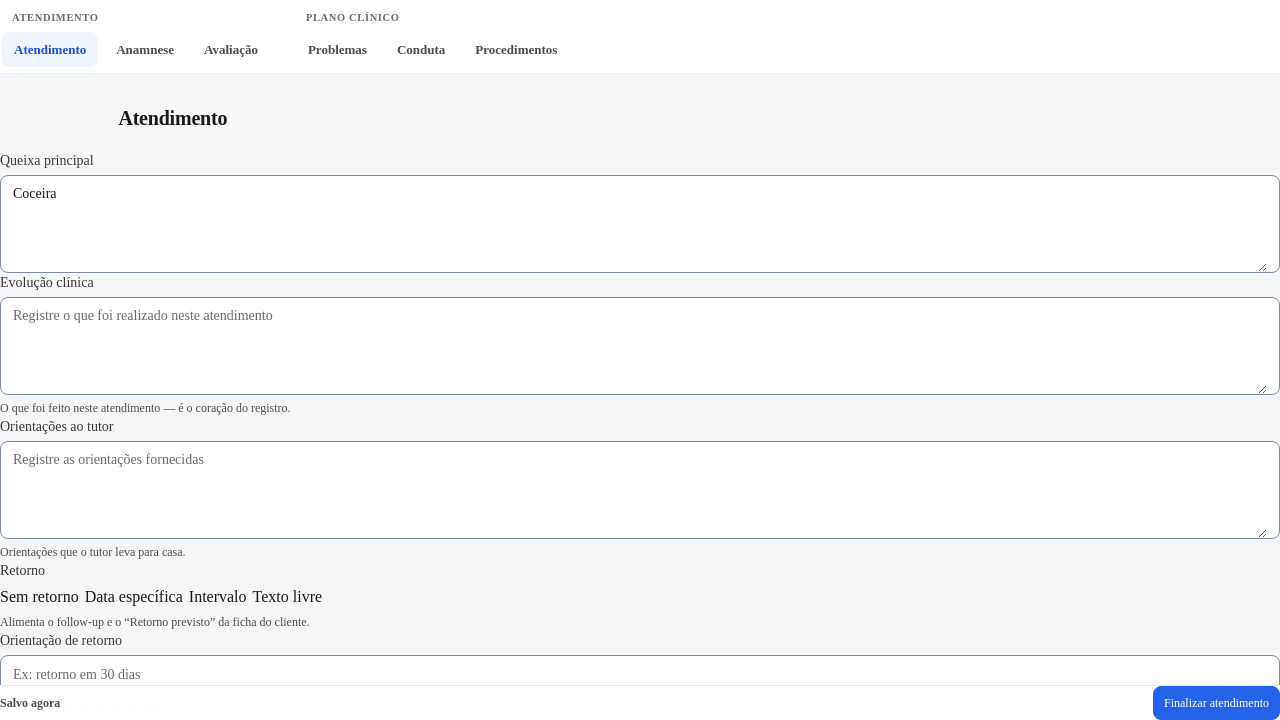
Test case: Revisão de finalização em hierarquia › pendências são os blocos realmente vazios (sem inventar campo)
Click the button "Finalizar atendimento": (1216, 703) x1=1153 y1=686 x2=1279 y2=719
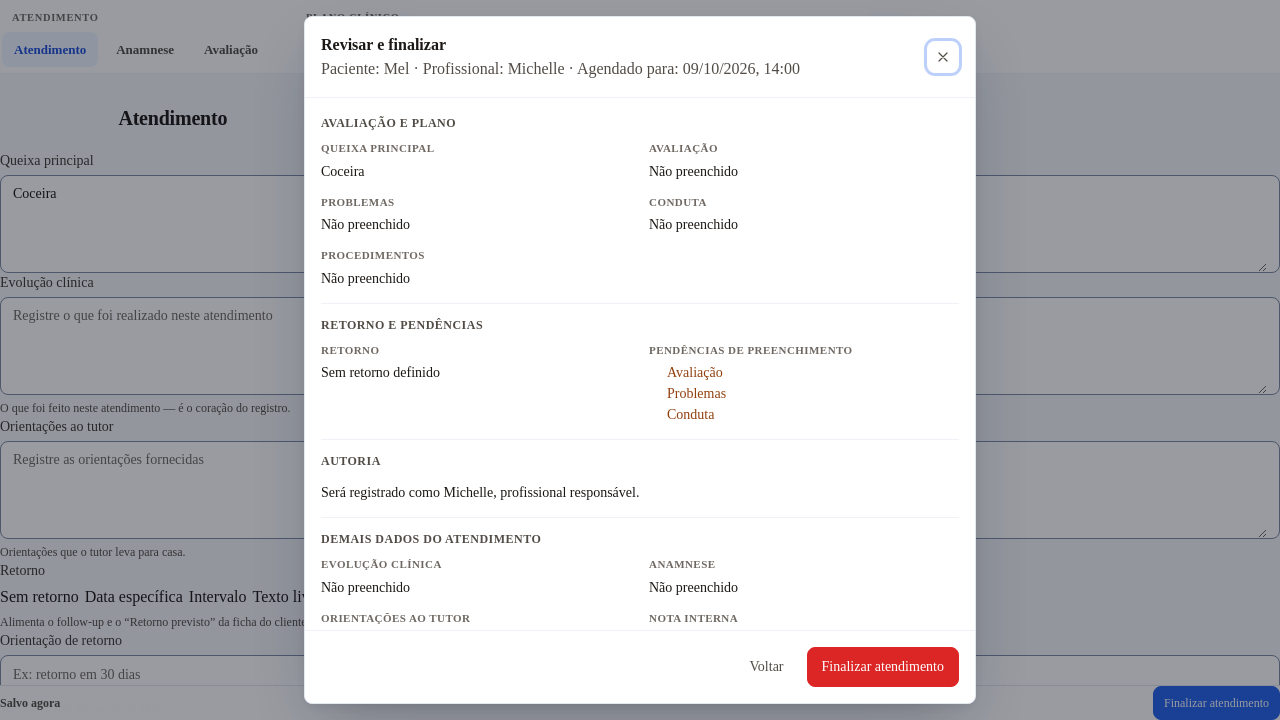
Check: the list items read "Avaliação", "Problemas", "Conduta", in this order, box x1=667 y1=365 x2=723 y2=380; x1=667 y1=386 x2=726 y2=401; x1=667 y1=407 x2=714 y2=422
